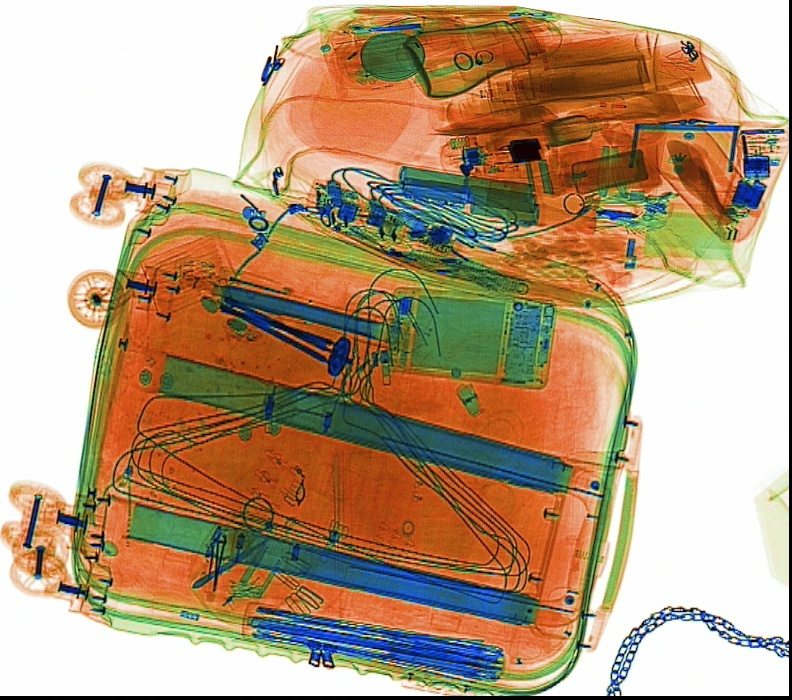powerbank: (395, 162, 542, 227)
